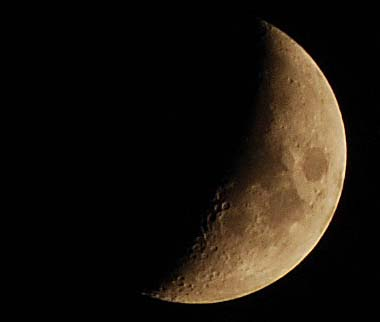crater: (299, 143, 334, 189), (220, 199, 235, 213), (285, 73, 297, 87), (209, 242, 221, 255)
